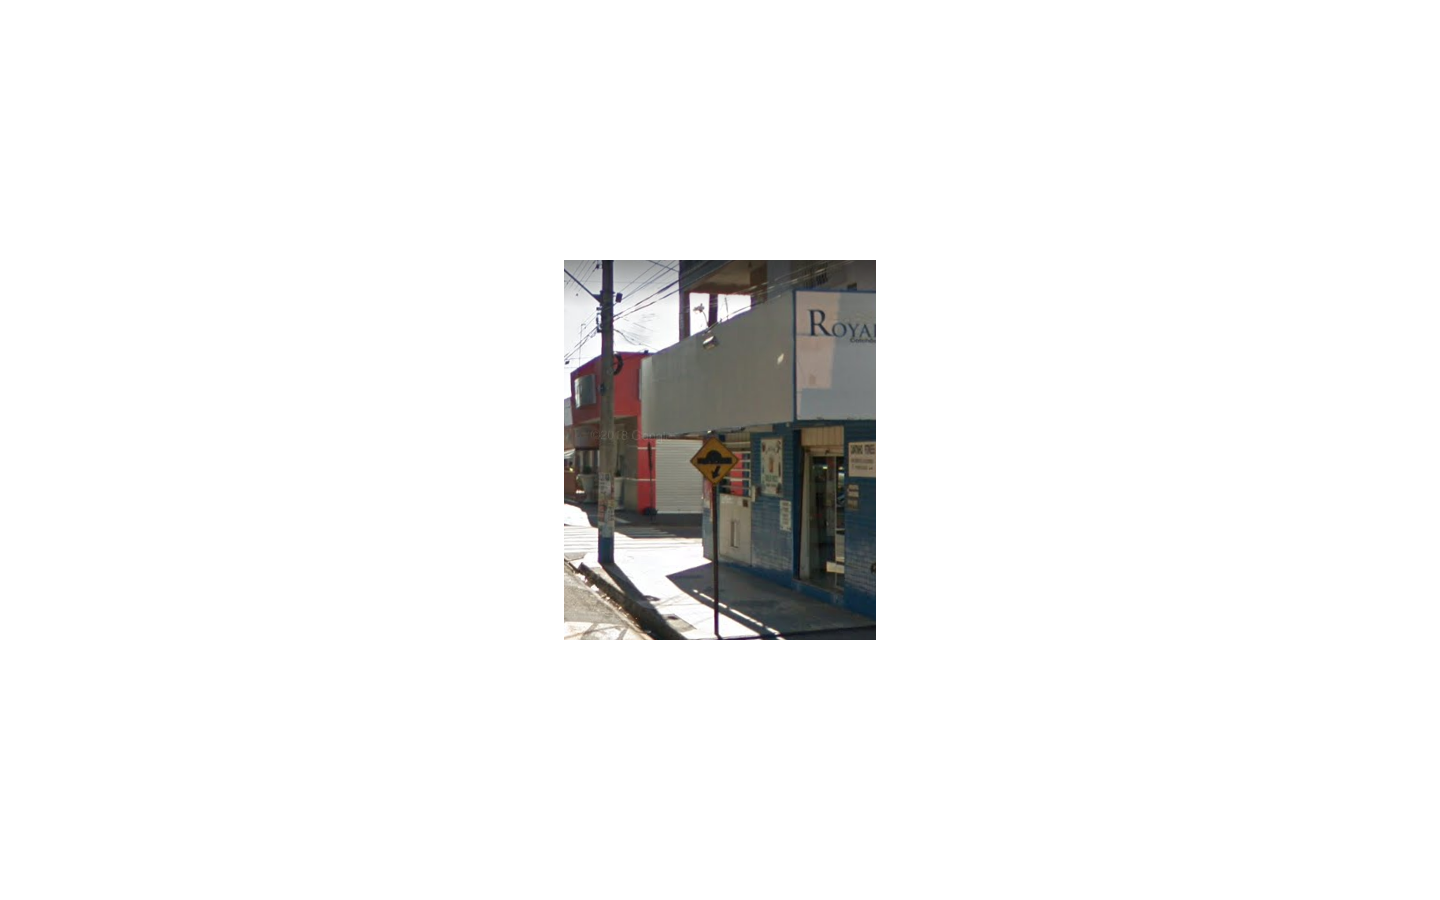lomb: (691, 435, 739, 484)
